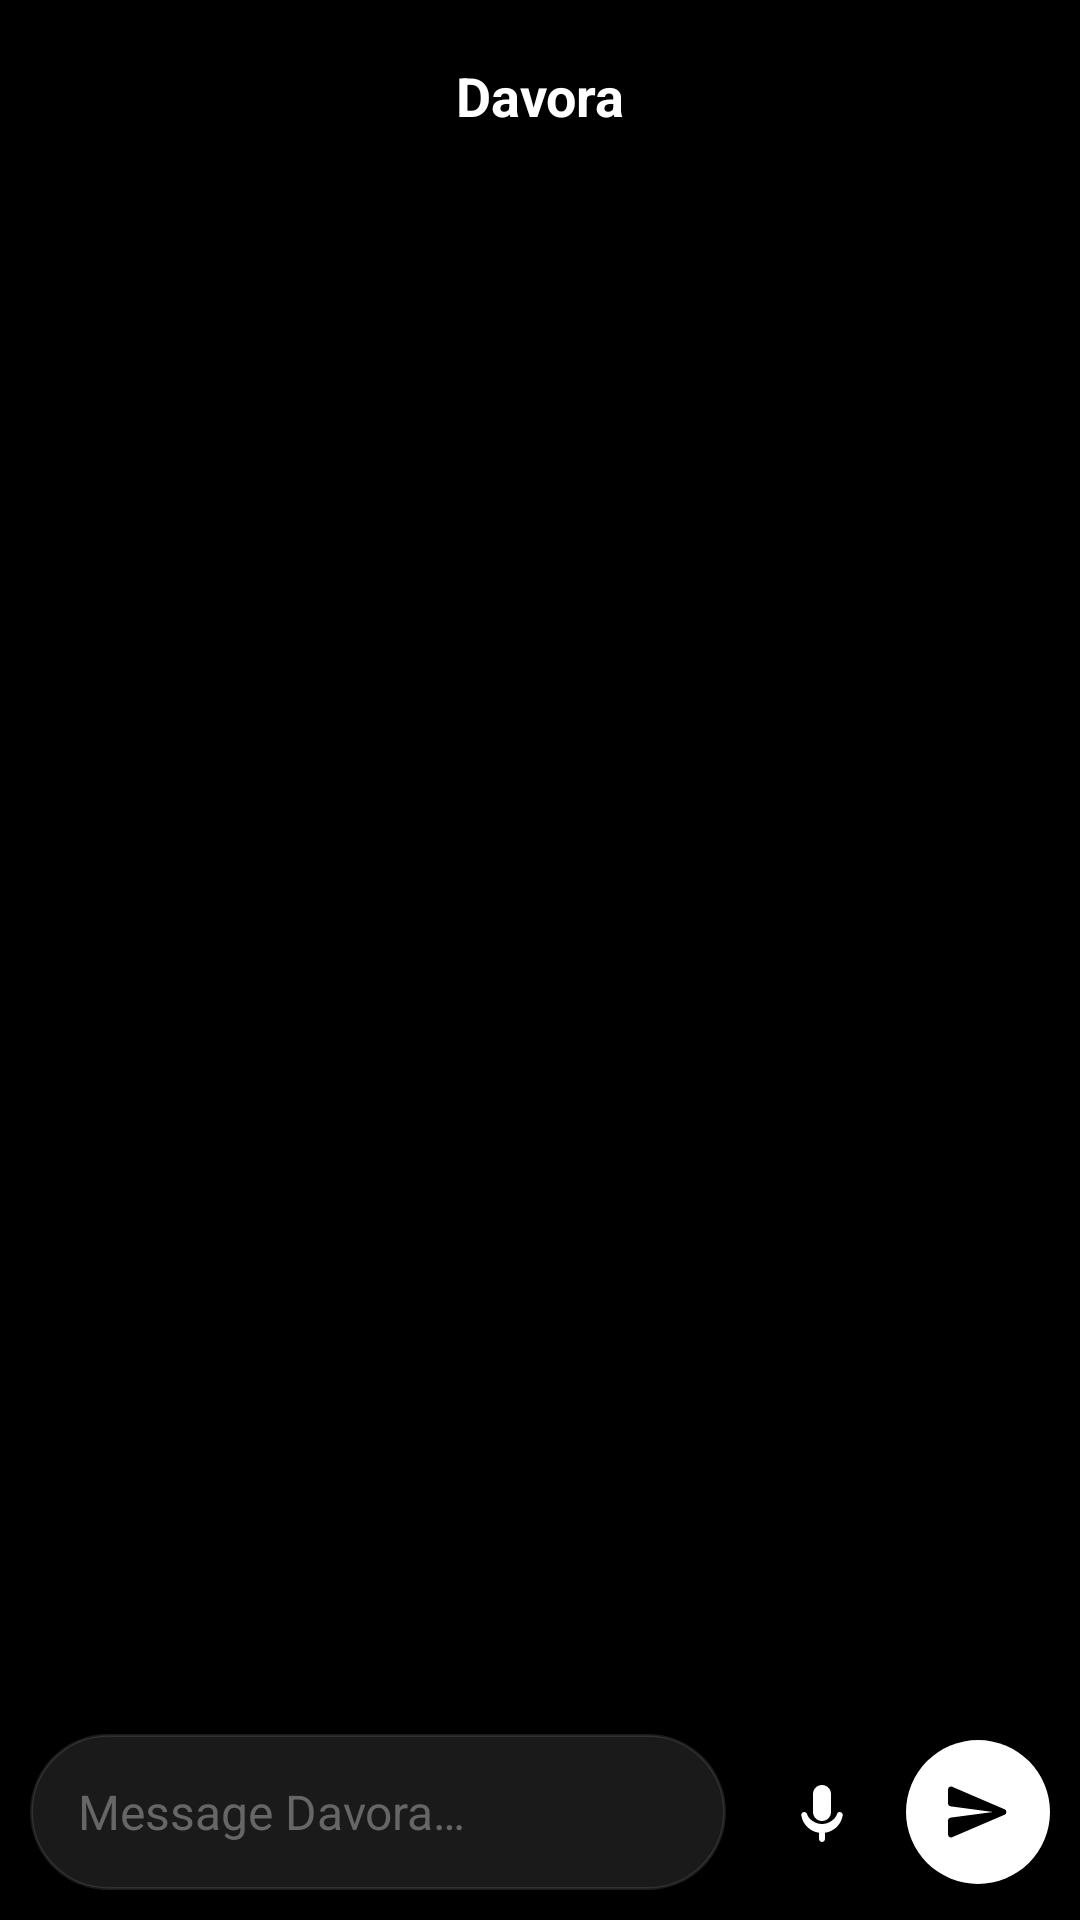

Where to tap for icons on this 1080*1920 app screen, as (x,y):
Microphone permission is needed for voice input: (822,1813)
